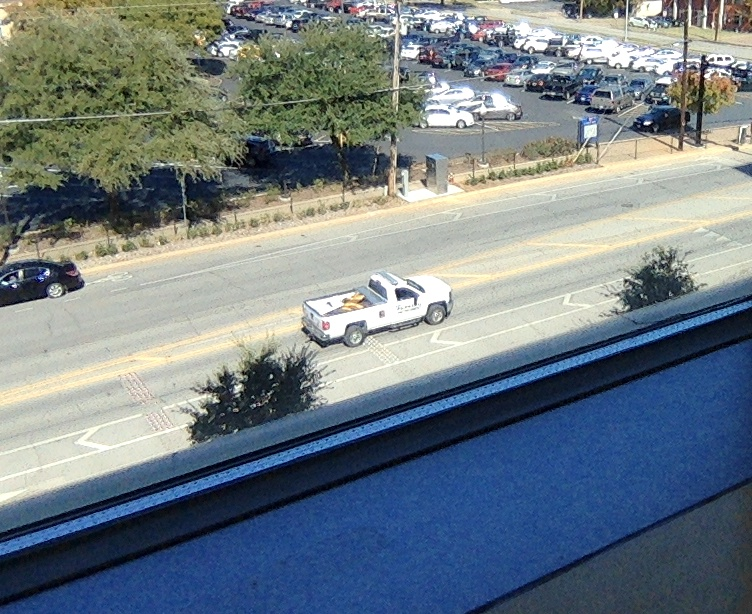car: (300, 300, 452, 350)
